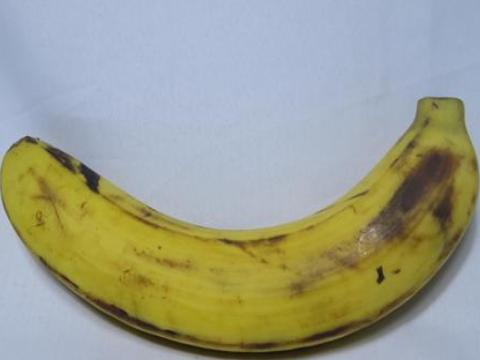overripe: (0, 91, 479, 359)
